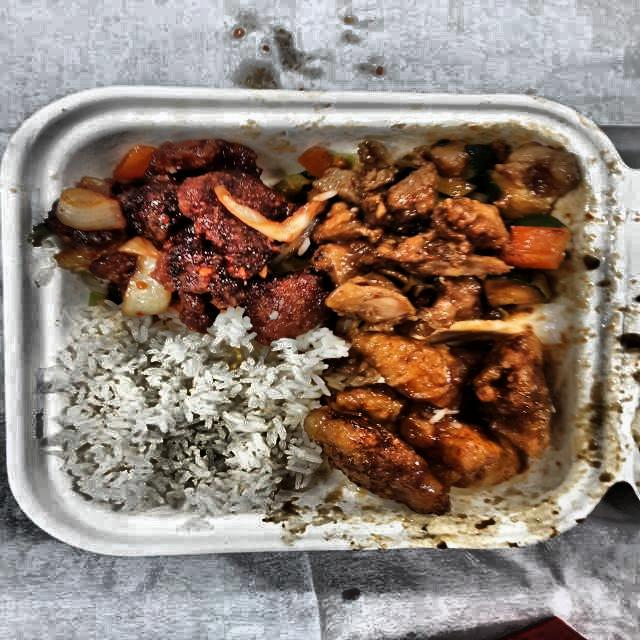Food: (36, 134, 323, 345), (302, 127, 582, 335), (51, 319, 318, 516), (311, 327, 568, 514)
